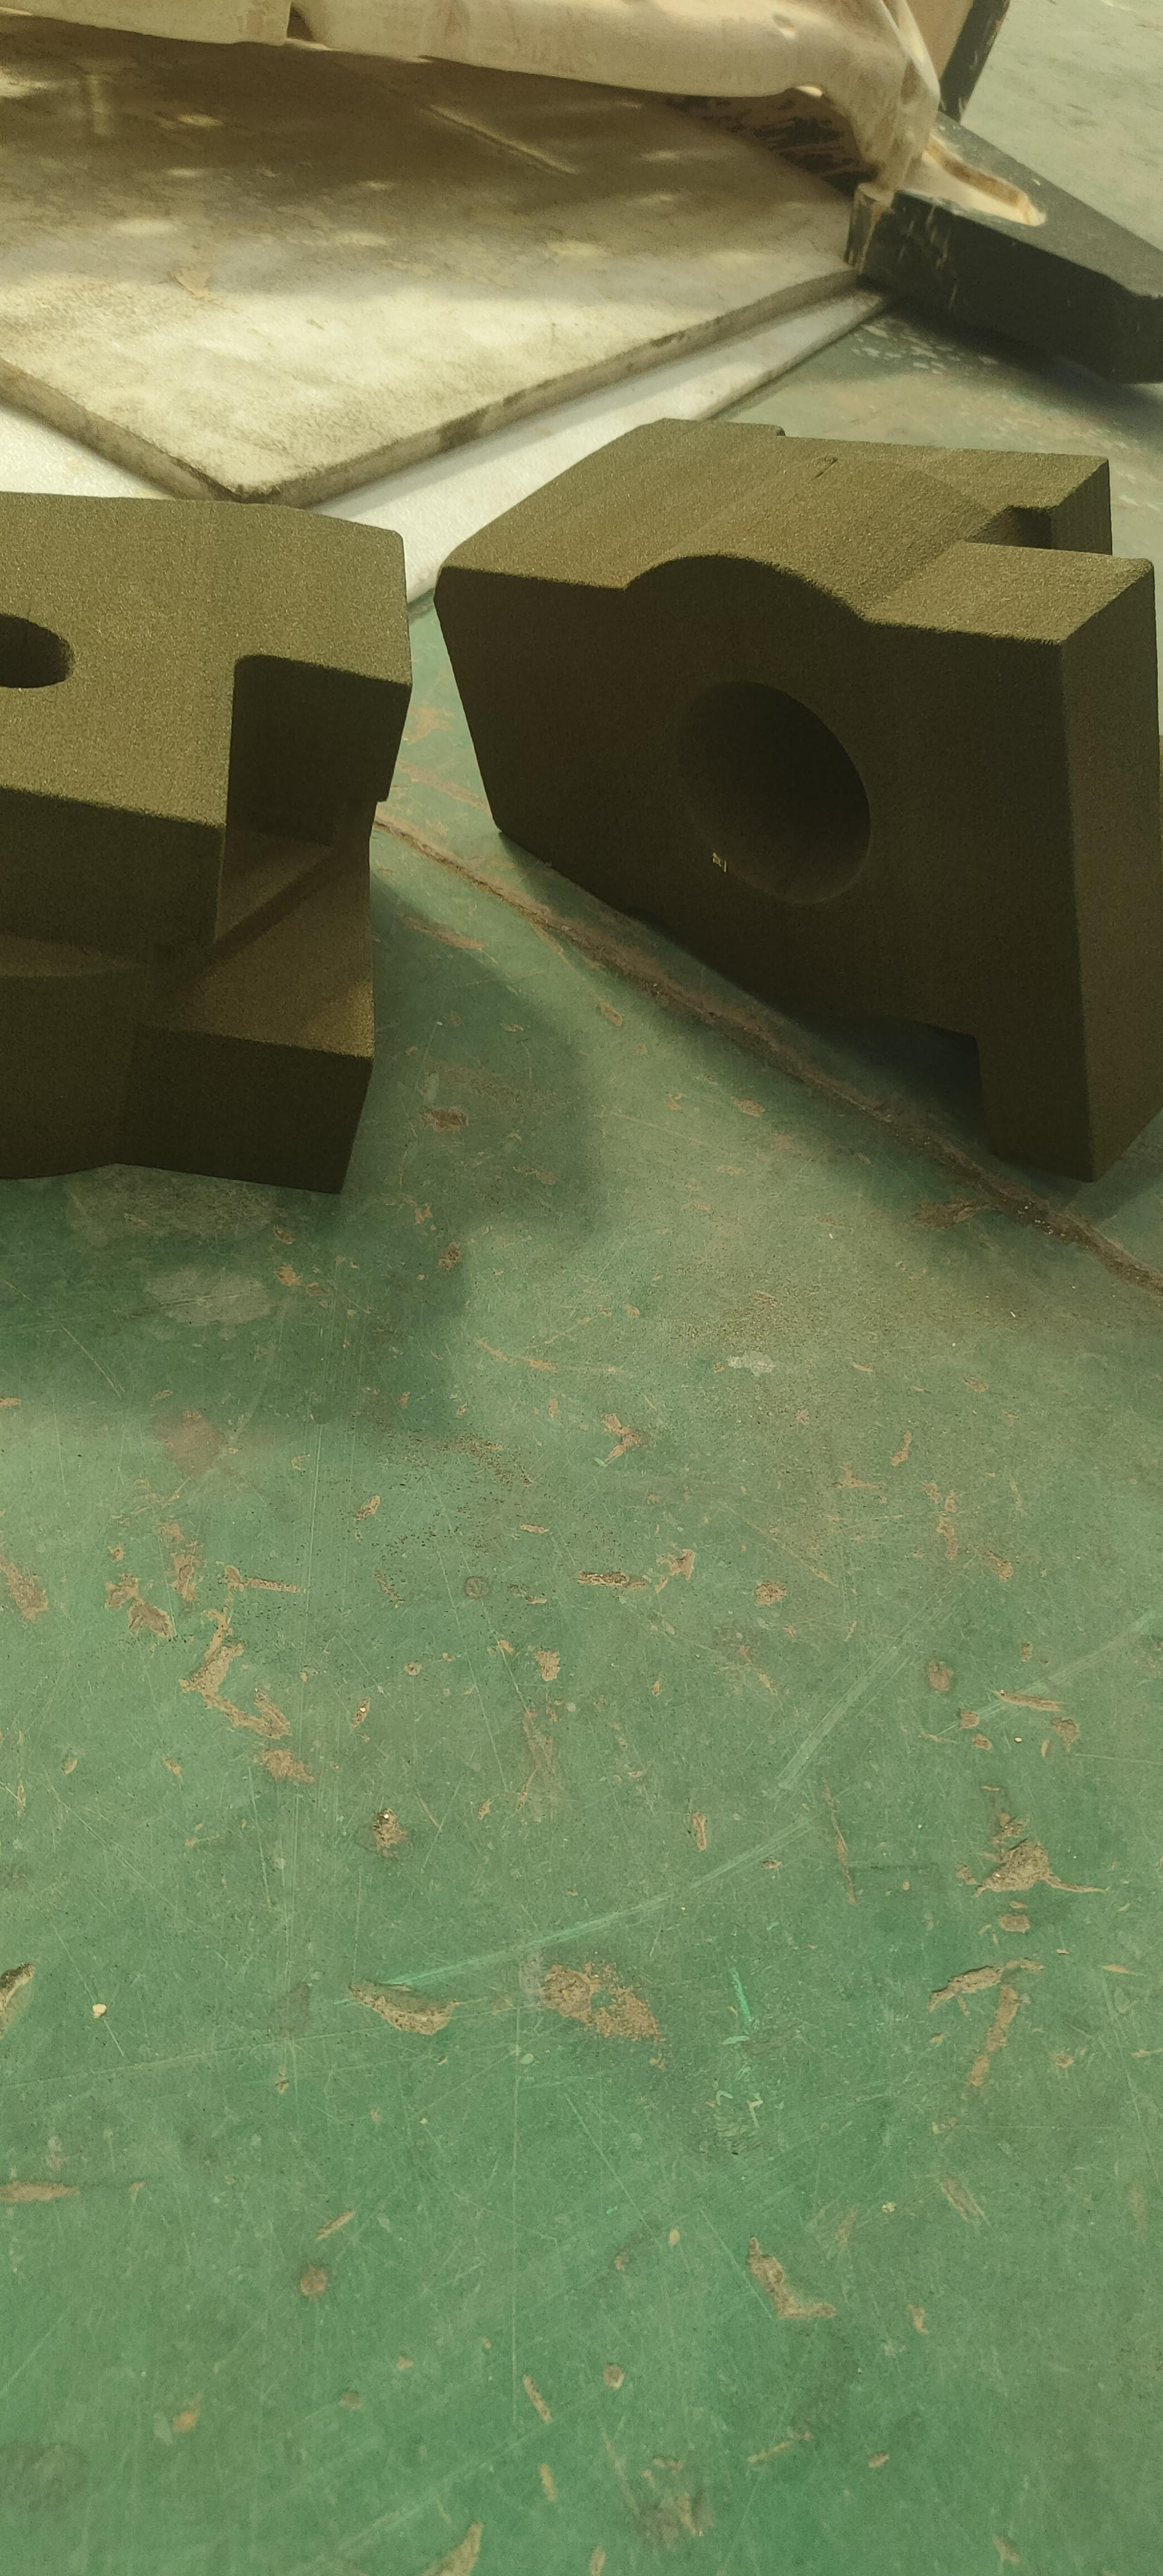pouring hole: (670, 680, 877, 909), (0, 613, 77, 693)
